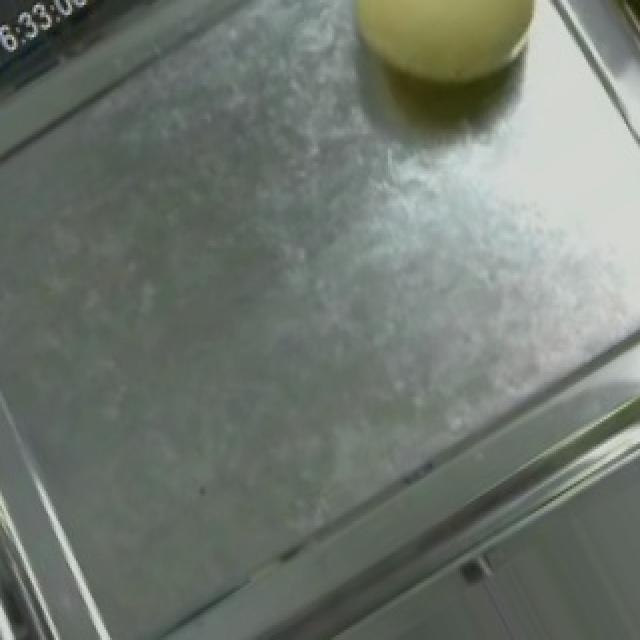Fruit: (312, 0, 570, 124)
